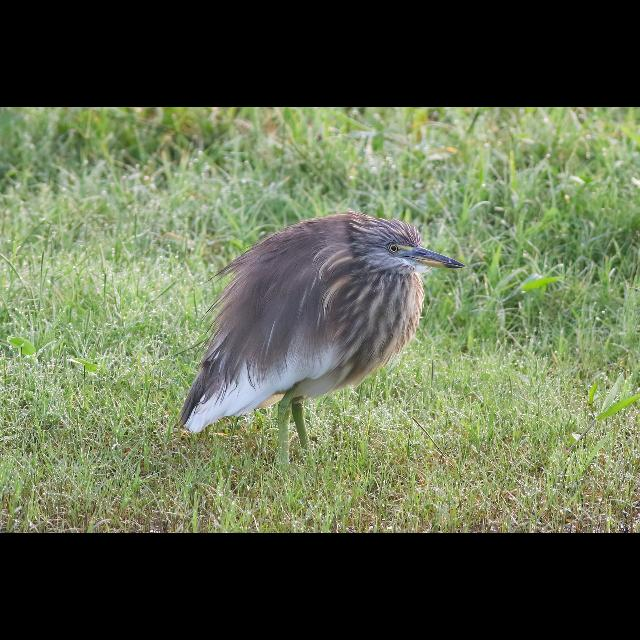heron: (178, 212, 466, 462)
